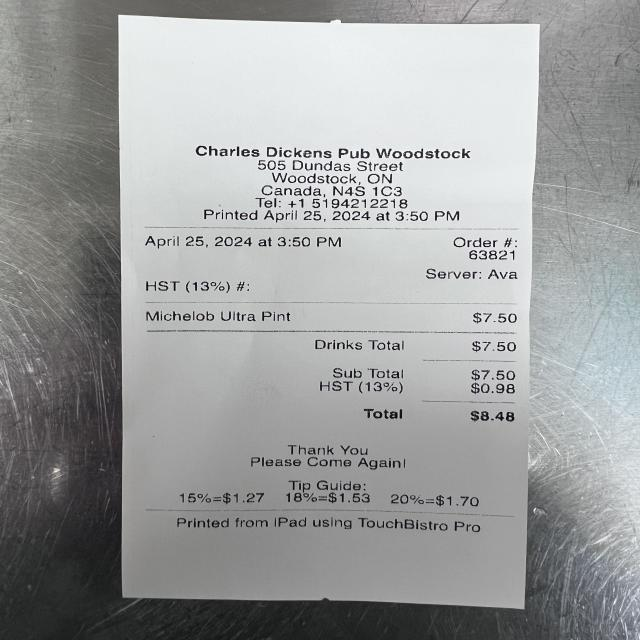item: (138, 304, 524, 334)
store_name: (190, 139, 480, 165)
total_amount: (355, 400, 524, 428)
transaction_date: (136, 229, 258, 253)
